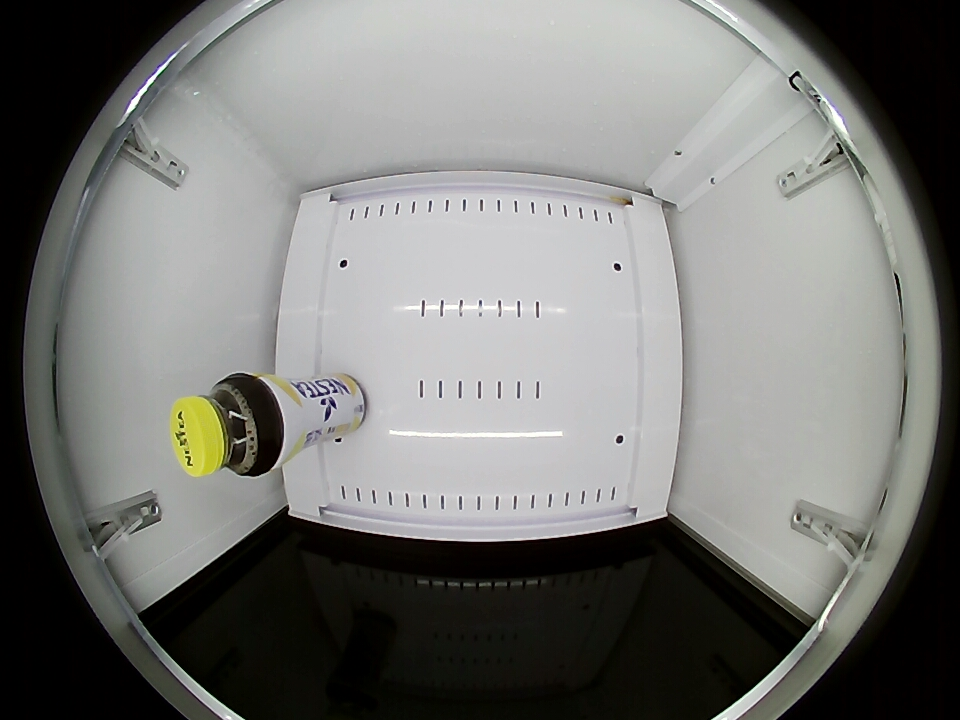chacui: (171, 374, 282, 479)
